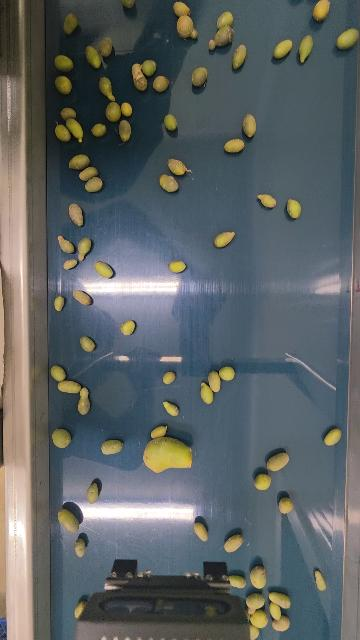Baby Potato: (140, 436, 198, 475), (206, 27, 237, 51), (173, 16, 200, 40), (56, 508, 81, 533), (335, 28, 360, 51), (190, 65, 212, 89), (65, 118, 87, 142), (167, 153, 189, 177), (97, 77, 118, 101), (211, 230, 236, 250), (50, 427, 72, 449), (273, 38, 293, 62), (265, 453, 291, 471), (131, 62, 147, 91), (68, 202, 86, 227), (241, 112, 258, 138), (223, 532, 244, 553), (255, 190, 278, 209), (197, 380, 215, 404), (250, 566, 268, 590), (98, 439, 123, 456), (72, 288, 93, 308), (312, 0, 331, 22), (69, 152, 91, 171), (57, 380, 83, 396), (53, 55, 76, 73), (232, 45, 248, 70), (94, 259, 114, 279), (83, 47, 102, 68), (159, 174, 178, 195), (300, 36, 314, 64), (222, 138, 246, 154), (77, 237, 93, 261), (268, 592, 292, 608), (104, 102, 122, 123), (252, 473, 273, 491), (172, 0, 195, 16), (216, 10, 235, 29), (56, 234, 75, 253), (149, 74, 169, 92), (75, 165, 99, 180), (218, 362, 236, 382), (52, 77, 73, 94), (81, 176, 103, 192), (117, 120, 131, 145), (55, 123, 70, 146), (313, 568, 328, 591), (271, 616, 294, 631), (325, 428, 342, 448), (245, 592, 265, 609), (250, 609, 267, 629), (78, 386, 91, 412), (63, 14, 79, 35), (142, 55, 158, 76), (286, 198, 302, 219), (208, 371, 223, 393), (72, 537, 87, 559), (117, 319, 136, 336), (79, 335, 96, 353), (48, 363, 66, 380), (168, 259, 188, 274), (193, 522, 208, 542), (162, 400, 179, 417), (229, 574, 247, 590), (278, 495, 292, 515), (49, 296, 68, 310), (72, 599, 85, 619), (91, 123, 108, 138), (87, 482, 98, 505), (164, 114, 178, 132), (148, 426, 169, 438), (99, 37, 112, 56), (58, 108, 78, 120), (120, 101, 134, 117), (269, 604, 282, 621), (161, 372, 176, 385), (247, 625, 260, 640), (61, 260, 78, 271), (121, 0, 136, 9), (248, 606, 256, 615)
